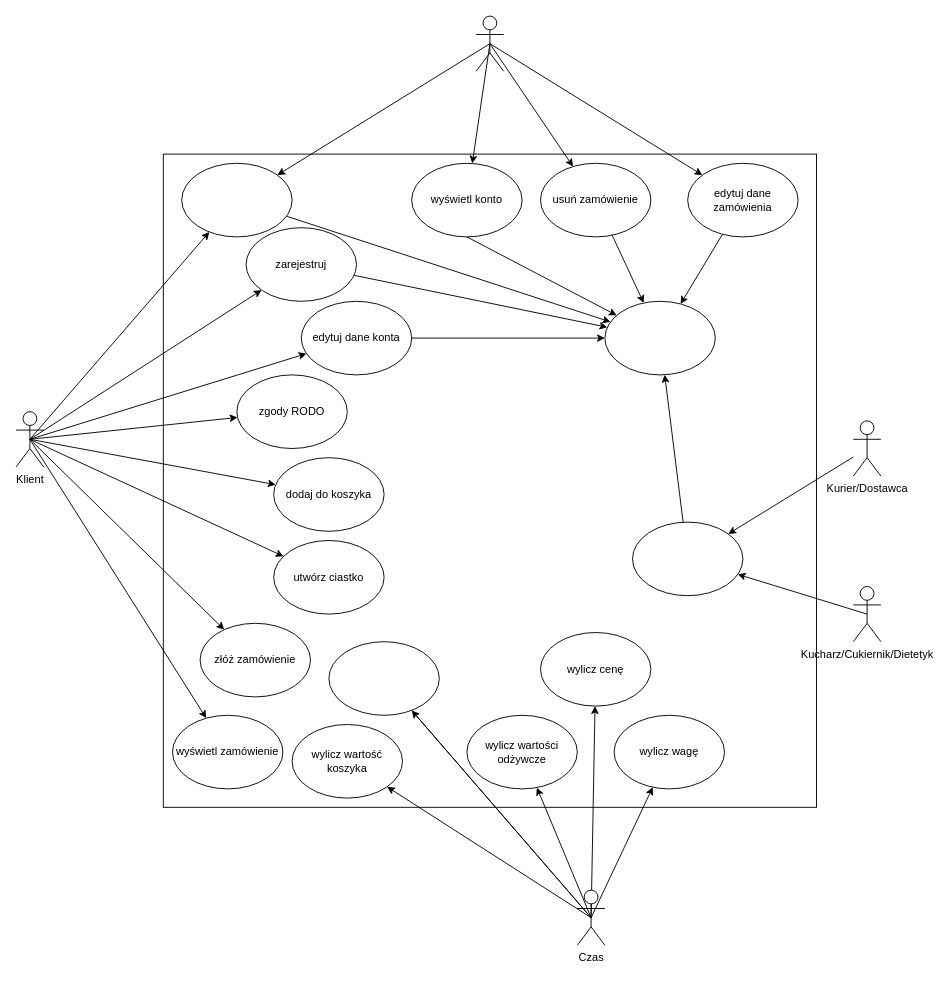
Some shapes in this 949 by 981 pixel diagram are drawn without their labels. Here are the shapes that lost their labels. From the top down, the centre of each, then its label:
At [489,43]: "Operator Systemu".
At [236,199]: "usuń konto".
At [659,337]: "autoryzuj użytkownika".
At [687,558]: "zmień status zamówienia".
At [383,678]: "wyślij email".
